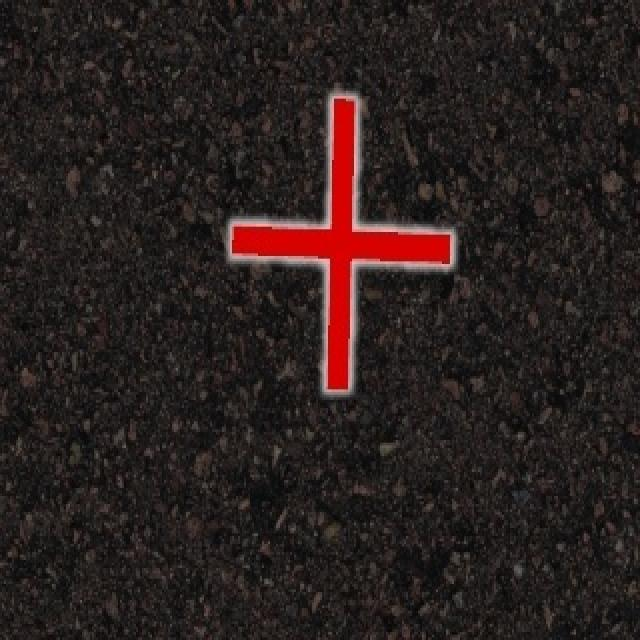x_marker: (231, 97, 451, 388)
